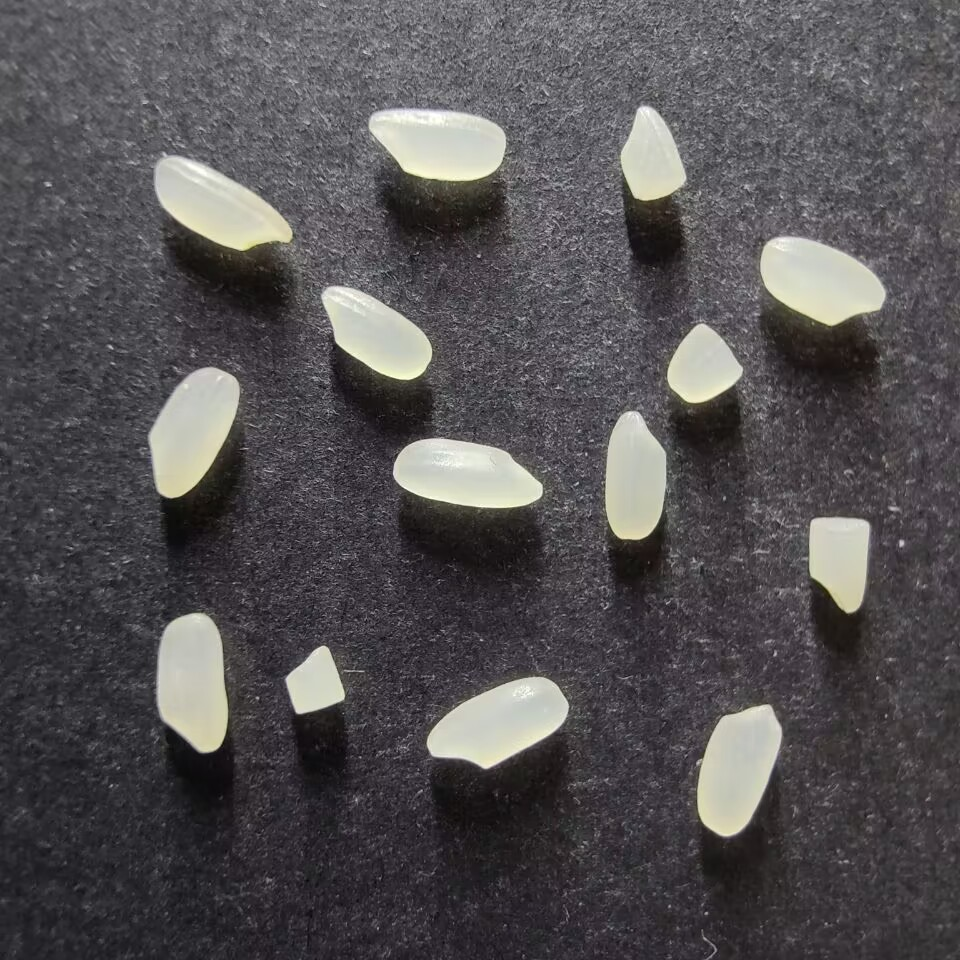broken: (665, 322, 743, 404), (619, 105, 685, 201), (807, 516, 872, 613), (285, 644, 348, 717)
rice: (153, 155, 292, 252), (425, 676, 568, 769), (146, 365, 240, 499), (695, 702, 782, 837), (758, 236, 885, 327), (391, 437, 543, 509), (320, 285, 432, 380), (155, 612, 229, 755), (367, 107, 506, 182), (603, 410, 666, 541)
